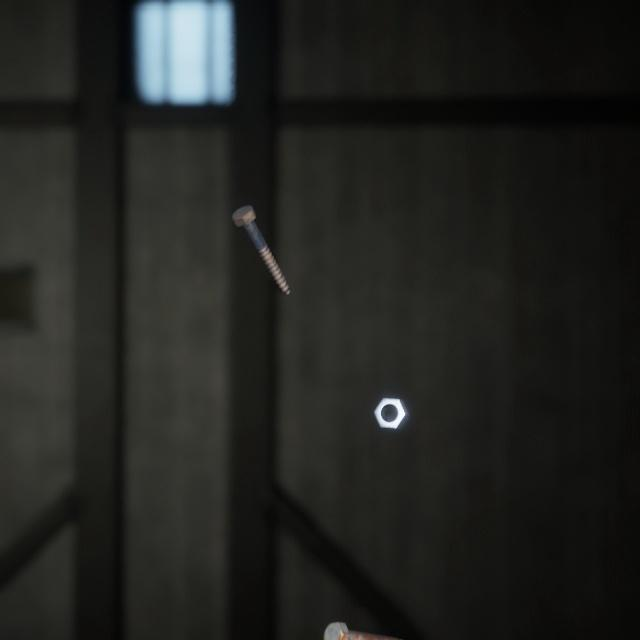bolt: (227, 184, 294, 283), (319, 593, 458, 640)
nut: (369, 374, 414, 415)
